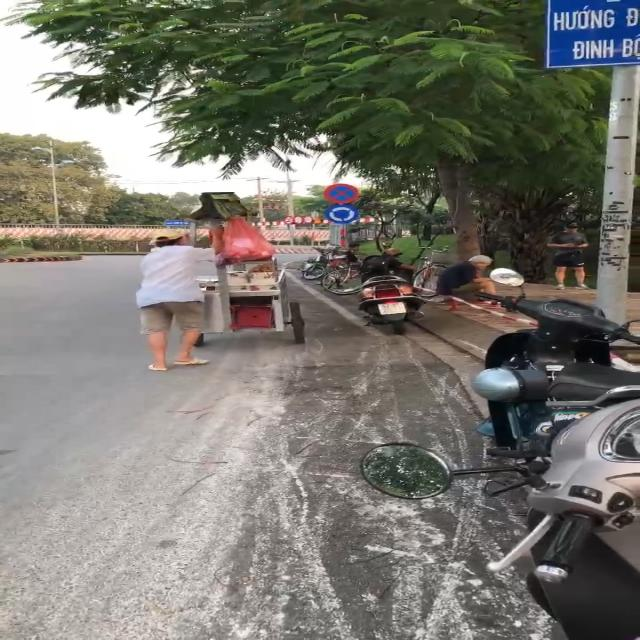Bien bao cam dung xe va do xe: (319, 180, 362, 204)
Bien bao noi giao nhau chay theo vong xuyen: (321, 204, 360, 224)
